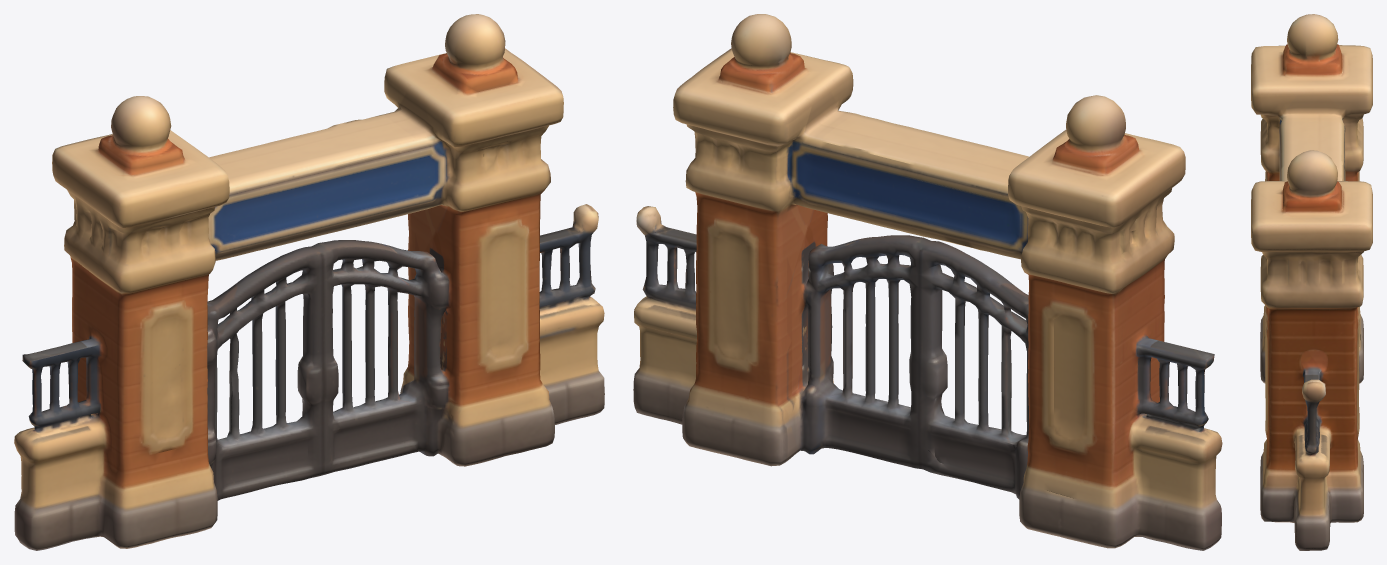
The model's file is DistrictSchoolAI.fbx.
3 renders of one model, left to right at view 1: azimuth 30°, elevation 25°; view 2: azimuth 150°, elevation 25°; view 3: azimuth 270°, elevation 25°, orthographic. The views are drawn at different scales.
Parts seen in each view (by area): view 1: Retopo_Mesh.001; view 2: Retopo_Mesh.001; view 3: Retopo_Mesh.001.
Part boxes in pixels (box(x1,y1,x2,y2)): Retopo_Mesh.001: box(14, 14, 604, 550); Retopo_Mesh.001: box(633, 14, 1222, 550); Retopo_Mesh.001: box(1251, 14, 1372, 550).
Bounding box in the file's own units: 1 × 0.7004 × 0.2197.
